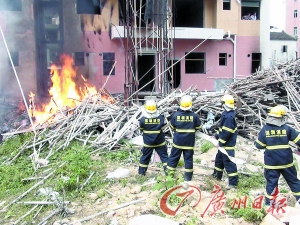fire: (27, 52, 110, 115)
